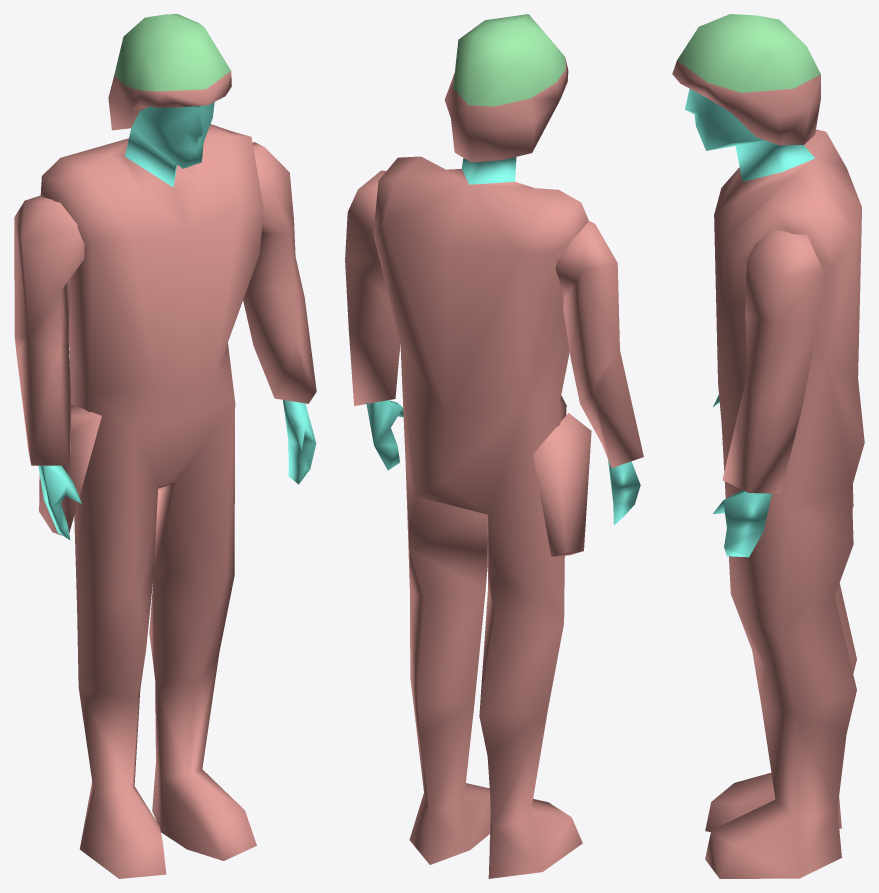
File: barney.obj
3 views of the same model, side by side, from view 1: azimuth 30°, elevation 25°; view 2: azimuth 150°, elevation 25°; view 3: azimuth 270°, elevation 25° (orthographic). The views are drawn at different scales.
Parts seen in each view (by area): view 1: lbarney_reference; view 2: lbarney_reference; view 3: lbarney_reference.
Boxes of the visible parts, x1,y1,x2,y2 form: lbarney_reference: (14,14,316,878); lbarney_reference: (345,14,643,878); lbarney_reference: (672,14,864,878).
Bounding box in the file's own units: 26.79 × 74.47 × 15.68.
